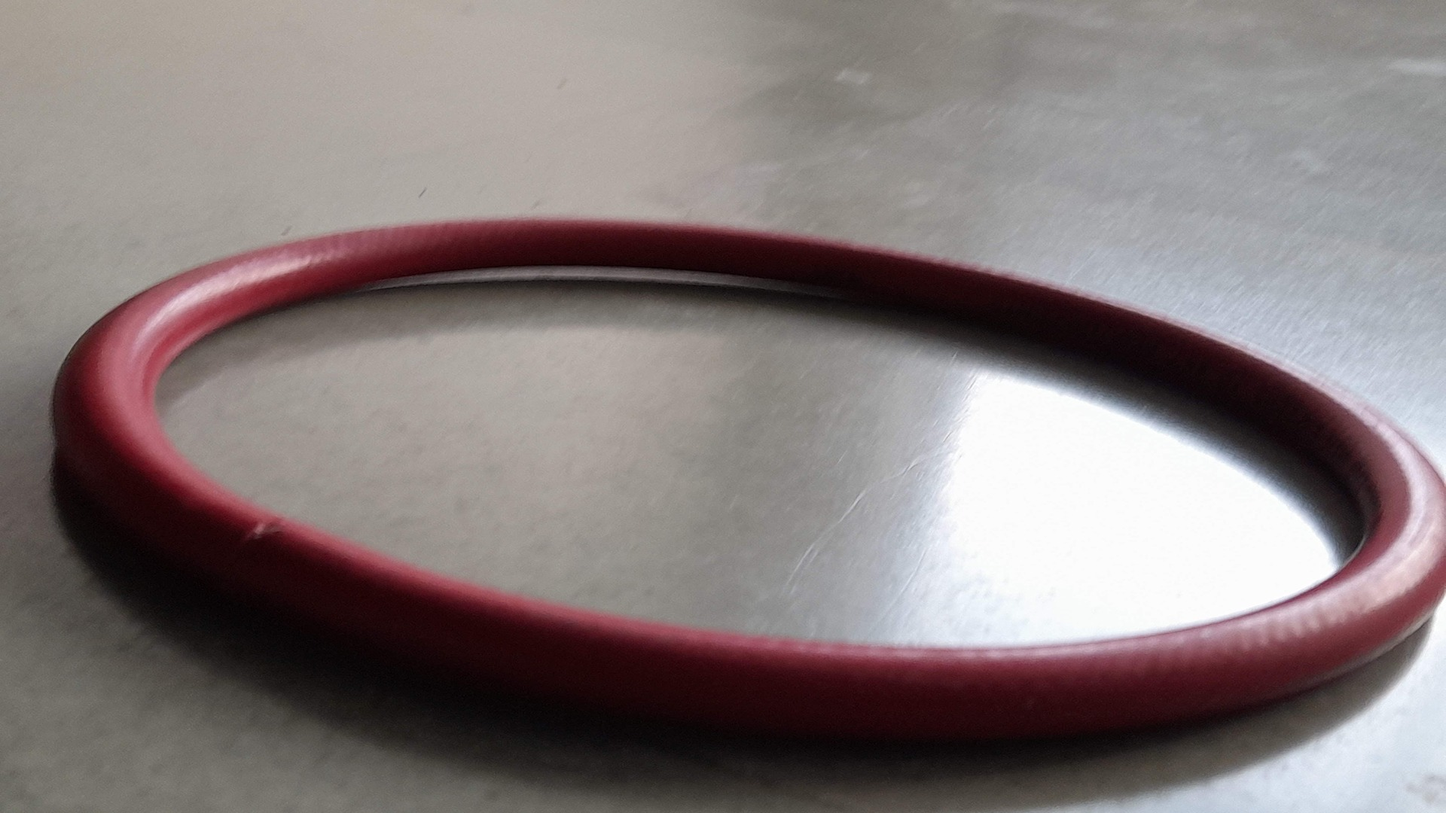Red ring: (66, 218, 1438, 731)
